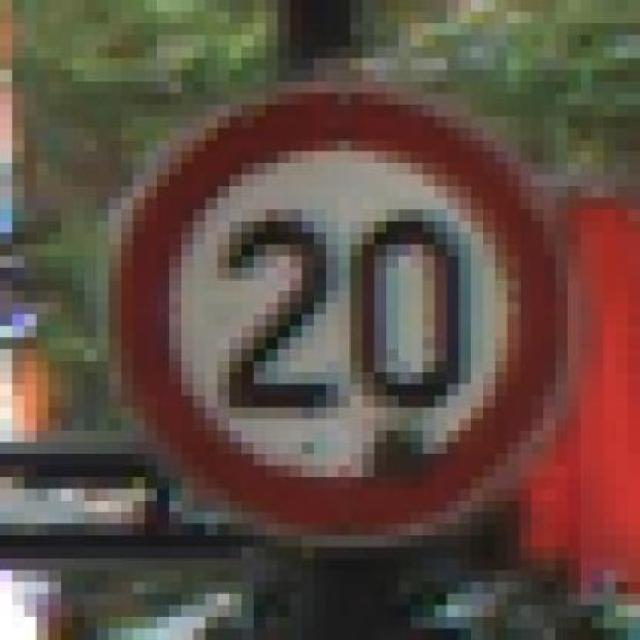forb_speed_over_20: (121, 92, 564, 538)
